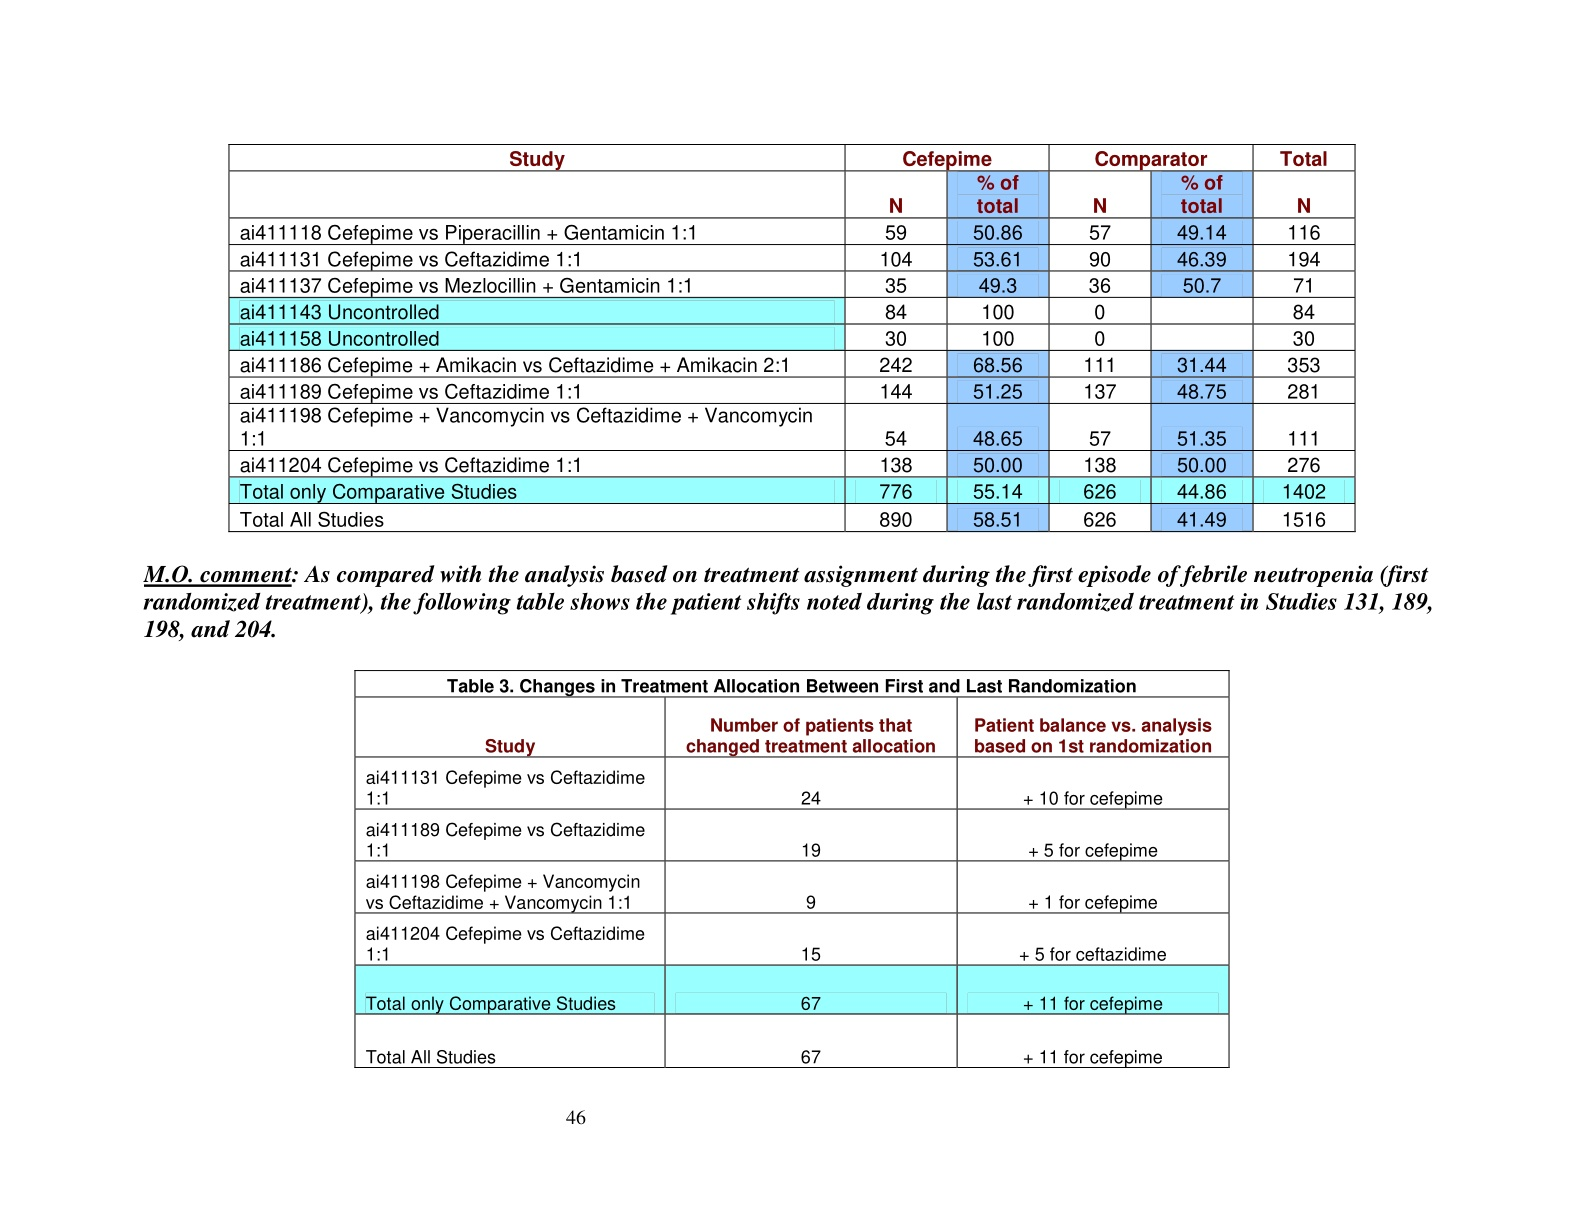merged_cells: (228, 144, 1356, 534), (354, 669, 1230, 1068)
